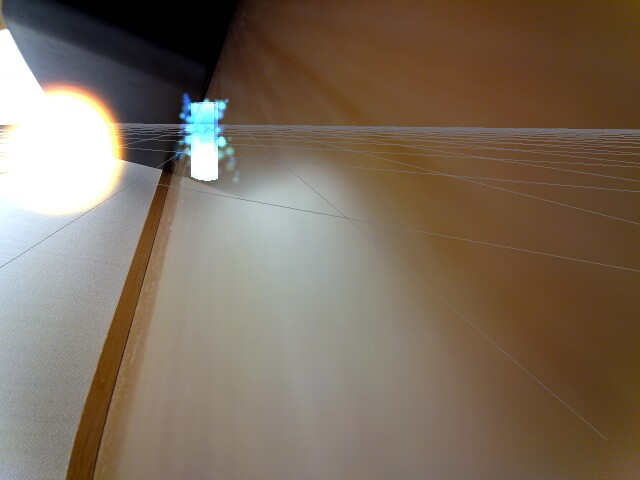firebig: (1, 50, 133, 222)
